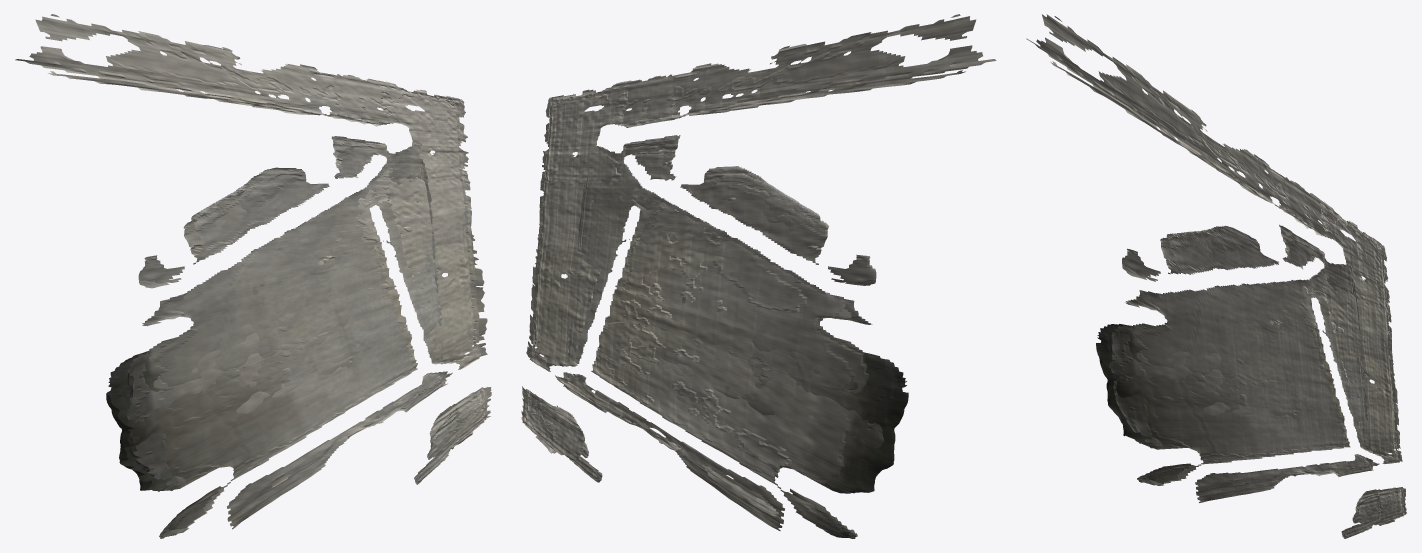
File: entity-work-platform-1.glb
3 renders of one model, left to right at view 1: azimuth 30°, elevation 25°; view 2: azimuth 150°, elevation 25°; view 3: azimuth 330°, elevation 25°, orthographic. The views are drawn at different scales.
Parts seen in each view (by area): view 1: geometry_0; view 2: geometry_0; view 3: geometry_0.
Part boxes in pixels (box(x1,y1,x2,y2)): geometry_0: box(15, 14, 491, 538); geometry_0: box(521, 14, 996, 538); geometry_0: box(1026, 14, 1406, 538).
Size of the model in its own units: 4.9 by 5.5 by 0.1632.
